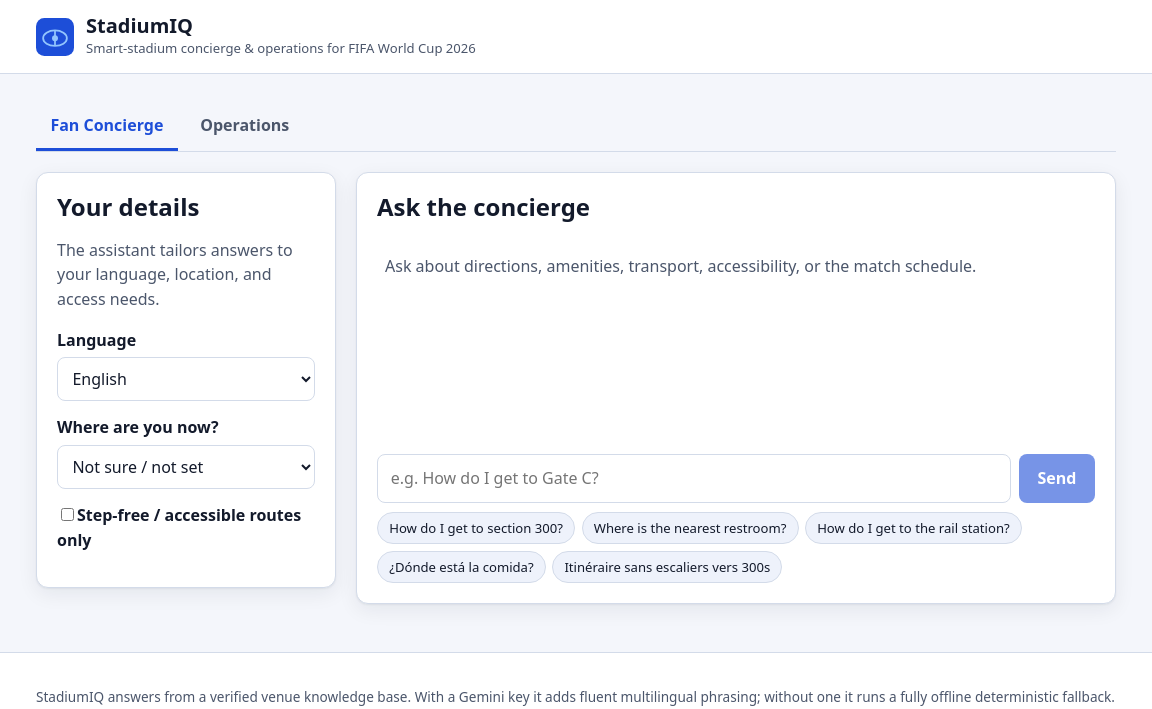
Test: App › answers a concierge question
The image size is (1152, 709).
Type "hello" into the field named "type your question" at (694, 478), box [377,454,1011,503]
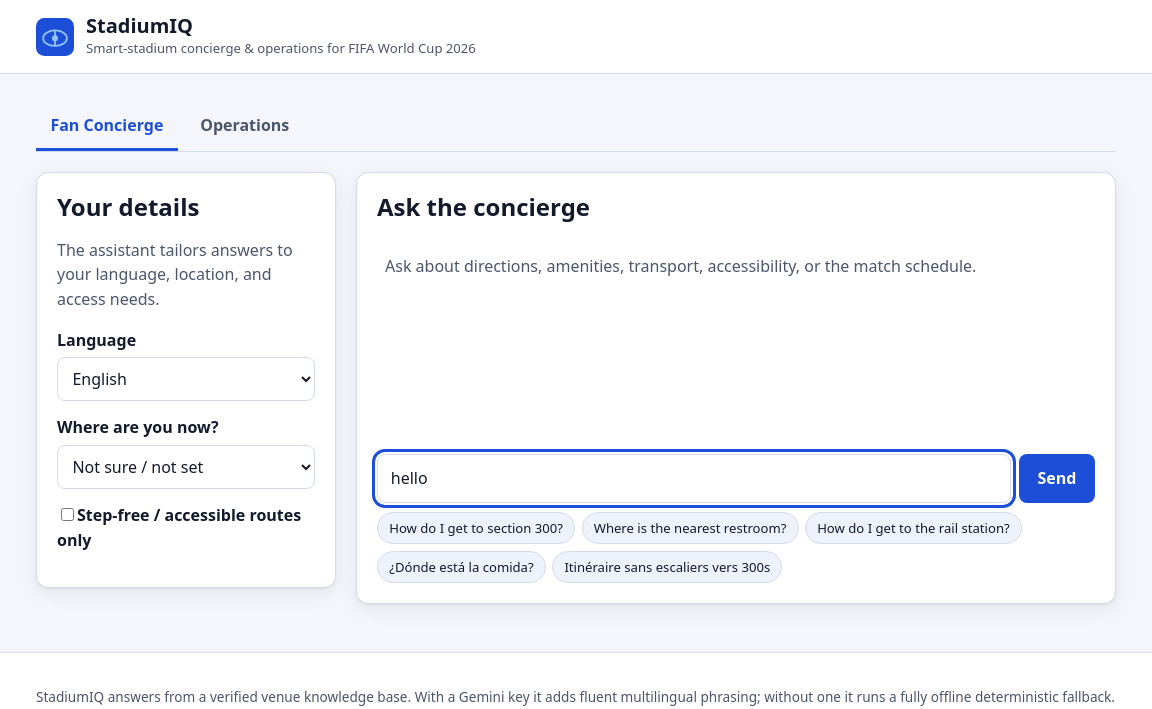
Click the button "Send" at (1057, 478), box [1019,454,1095,503]
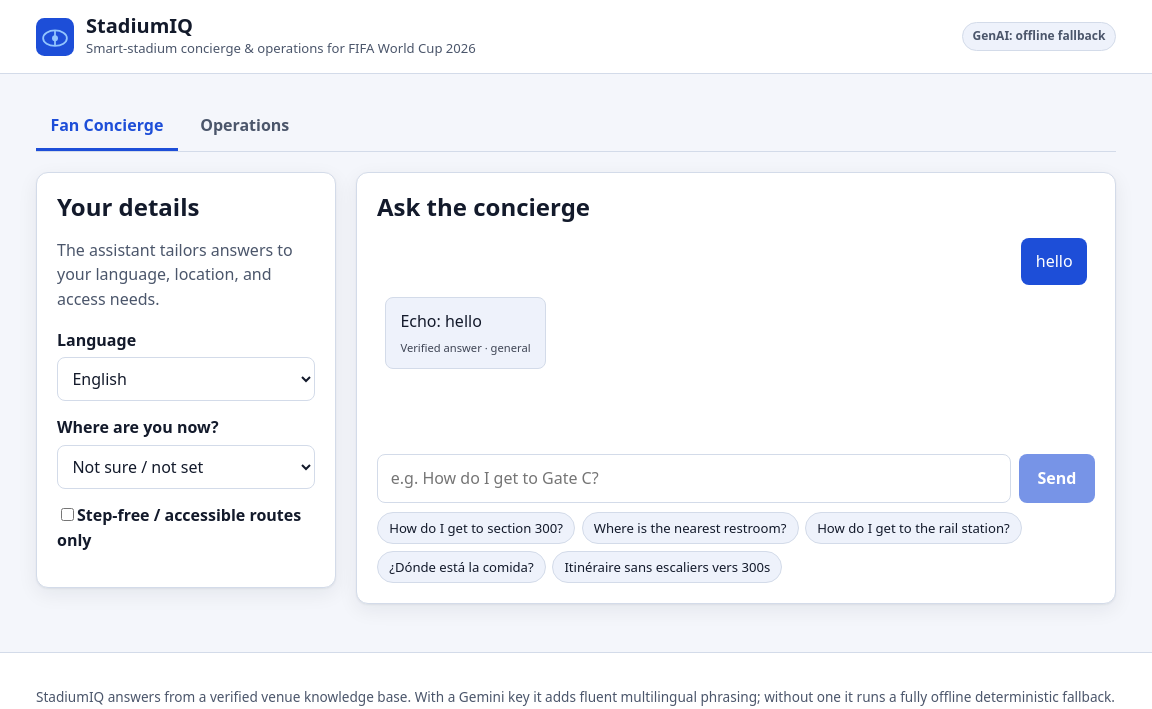
Expected: the text "Echo: hello Verified answer · general" is shown, [385,297,546,369]
